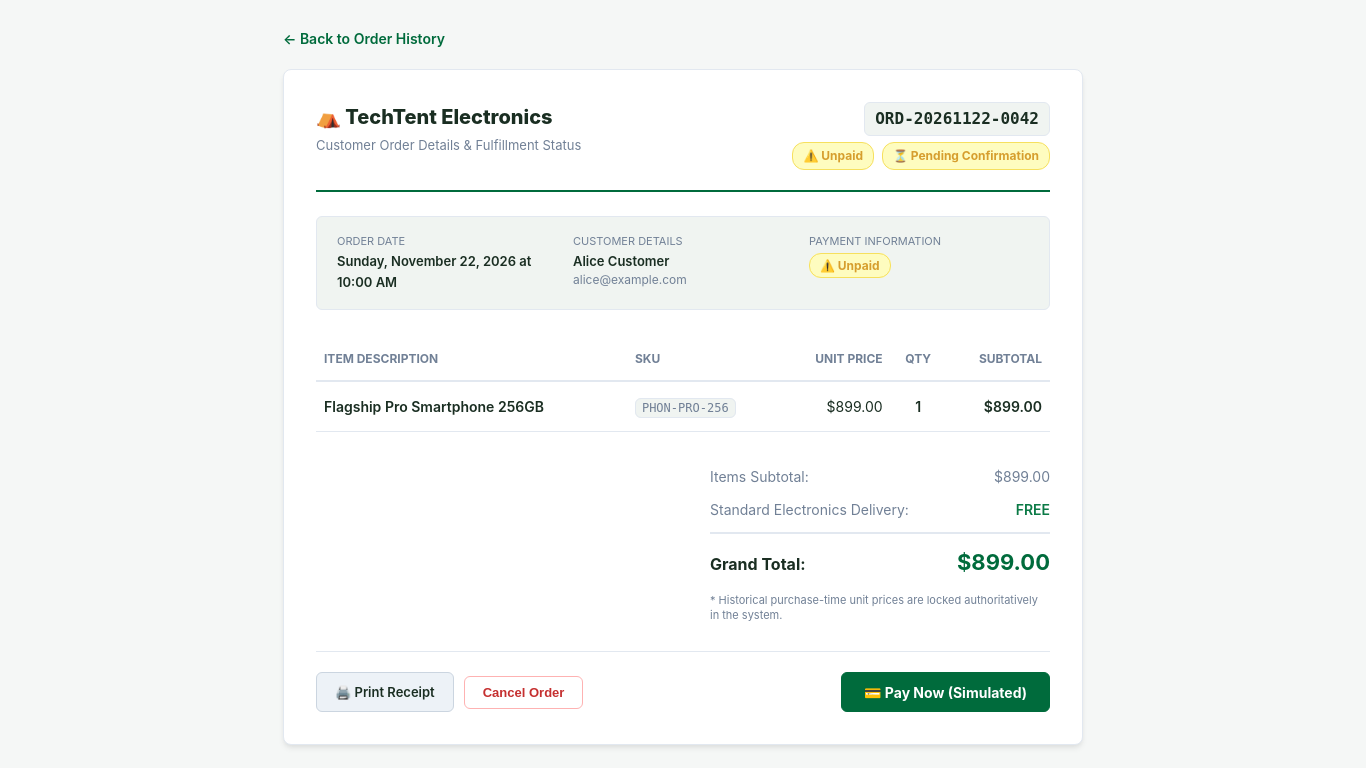
Test: Feature 7: Customer Order Cancellation Component (F-07) › submits cancellation with reason and displays updated CANCELLED state and details
Expected: the text "ORD-20261122-0042" is shown, [864,102,1050,136]
Click the button with test id "cancel-order-btn".
click(524, 692)  # box [464,676,583,709]
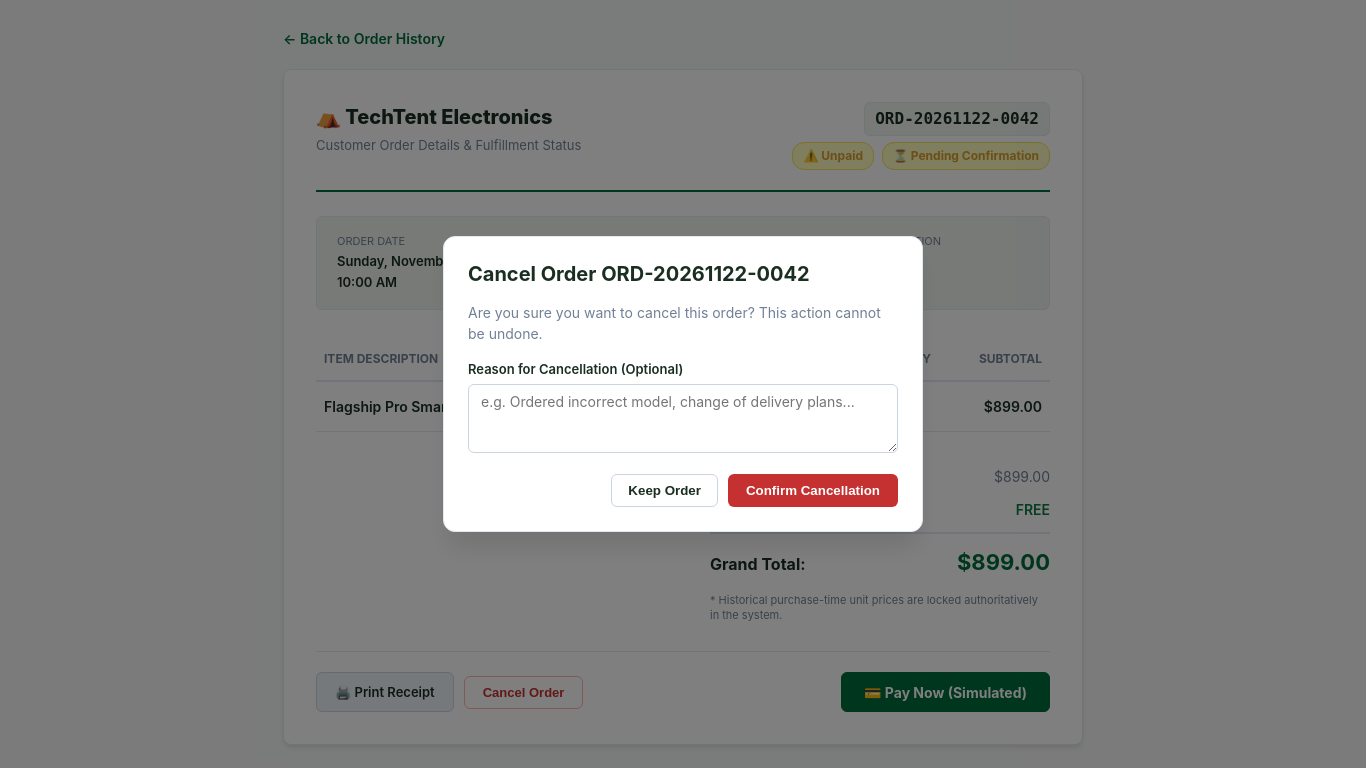
Type "Ordered wrong color" into the text box with test id "cancel-reason-input".
click(683, 418); type("Ordered wrong color")  # box [468,384,898,453]
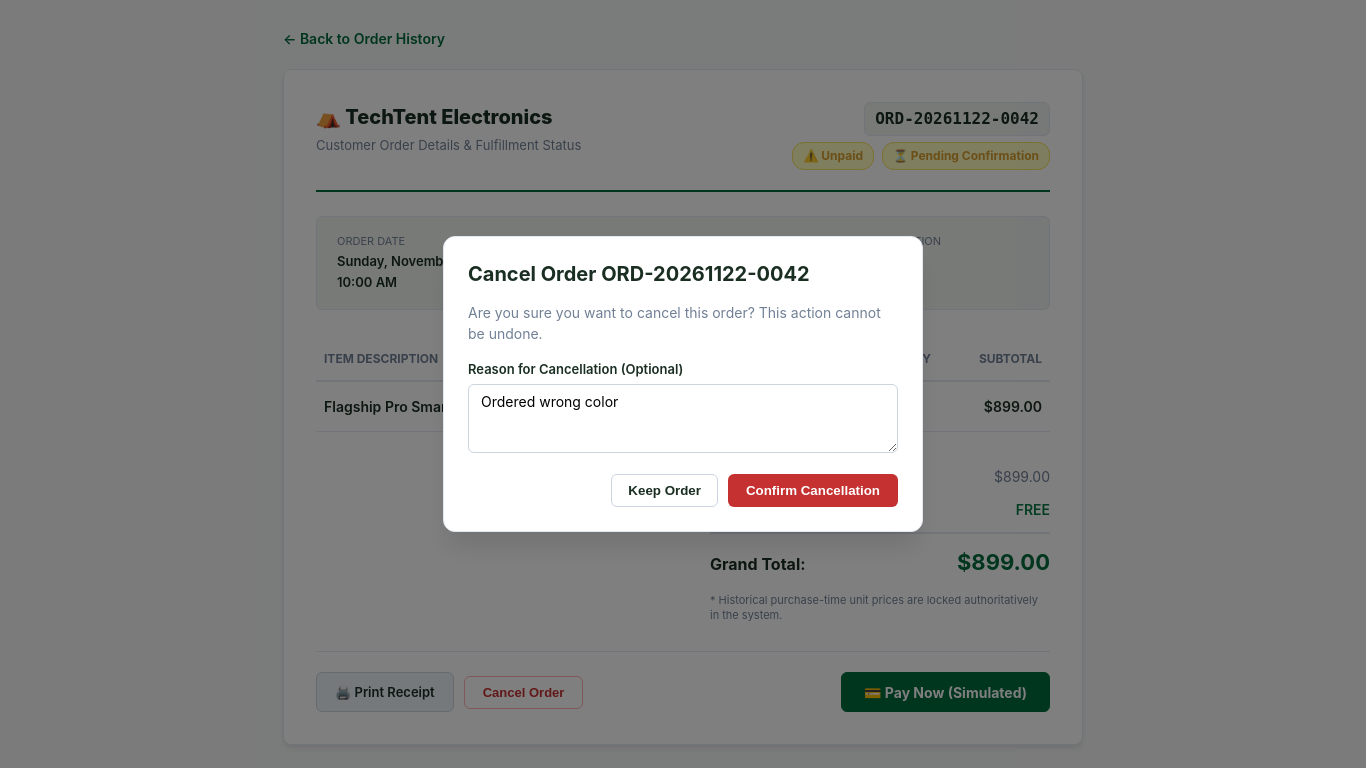
Click the button with test id "confirm-cancel-btn".
click(813, 490)  # box [728,474,898,507]
(page scrolled)
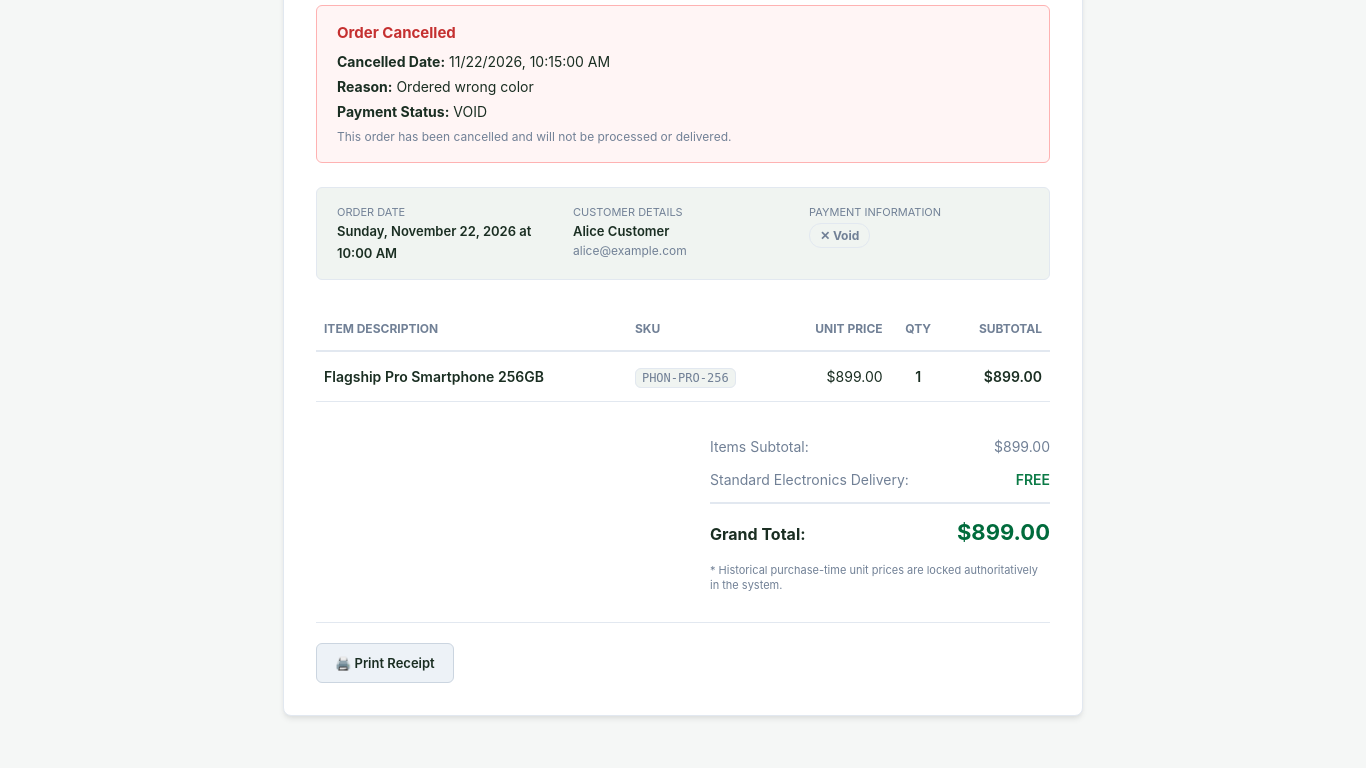
Expected: the element with test id "cancel-order-modal" is gone
Expected: the element with test id "cancellation-details-banner" is shown, [316,5,1050,162]
Expected: the text "Reason: Ordered wrong color" is shown, [337,78,534,94]
